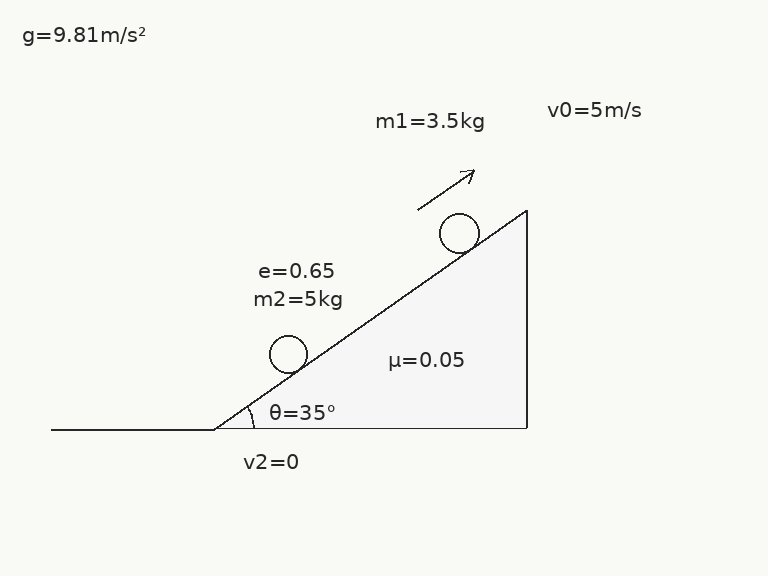ball: (437, 211, 481, 255), (267, 333, 309, 375)
ramp: (212, 208, 528, 431)
